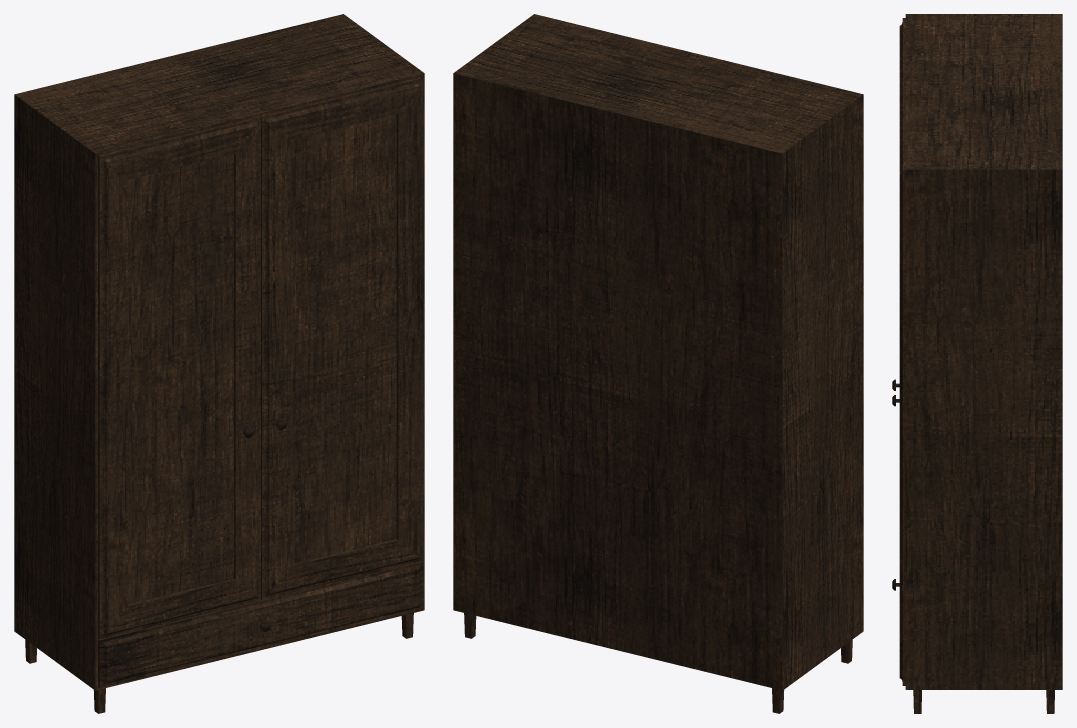
Rendered from wardrobe_mp_1_1.glb.
The picture shows the model from 3 angles, left to right: view 1: azimuth 30°, elevation 25°; view 2: azimuth 150°, elevation 25°; view 3: azimuth 270°, elevation 25°; orthographic projection. The views are drawn at different scales.
Parts seen in each view (by area): view 1: wardrobe_mp_1_1, wardrobe_mp_1_1_drawer; view 2: wardrobe_mp_1_1; view 3: wardrobe_mp_1_1, wardrobe_mp_1_1_drawer.
Boxes of the visible parts, x1,y1,x2,y2 form: wardrobe_mp_1_1: (14, 14, 424, 713); wardrobe_mp_1_1_drawer: (98, 561, 423, 688); wardrobe_mp_1_1: (453, 14, 863, 713); wardrobe_mp_1_1: (892, 14, 1062, 713); wardrobe_mp_1_1_drawer: (892, 579, 905, 685).
Size of the model in its own units: 1.22 by 2 by 0.5645.
1 material, 1 textured.
